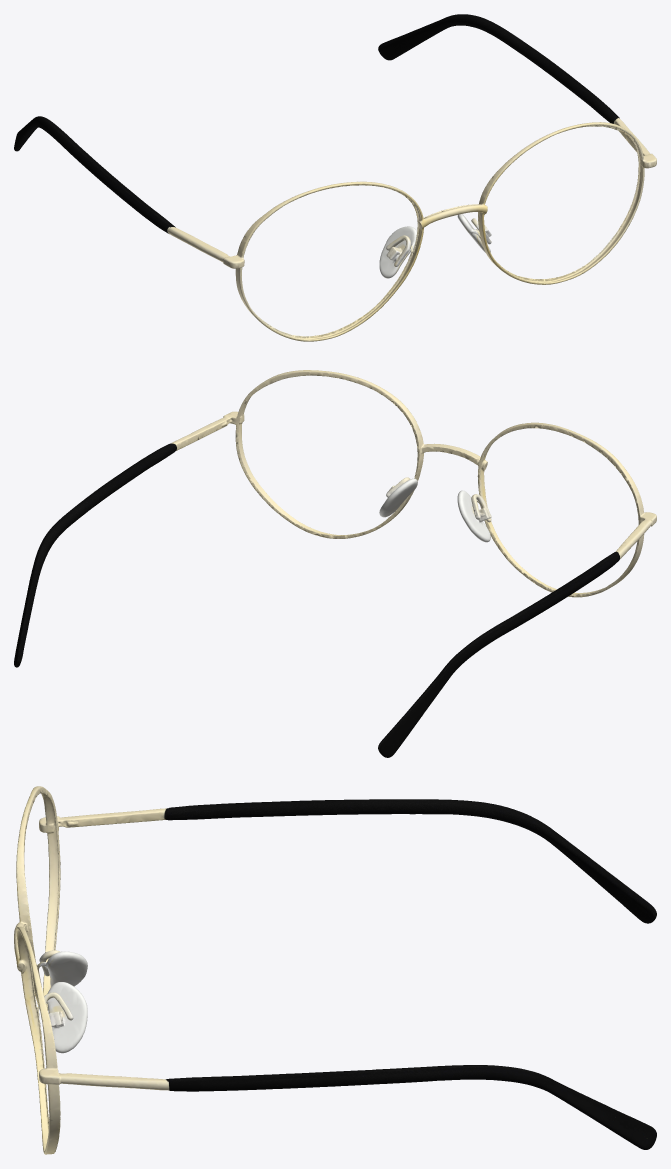
Rendered from Wise.glb.
The picture shows the model from 3 angles, top to bottom: view 1: azimuth 30°, elevation 25°; view 2: azimuth 150°, elevation 25°; view 3: azimuth 270°, elevation 25°; orthographic projection. The views are drawn at different scales.
Bounding box in the file's own units: 1.9 × 0.63 × 1.85.
1 material, 1 textured.
